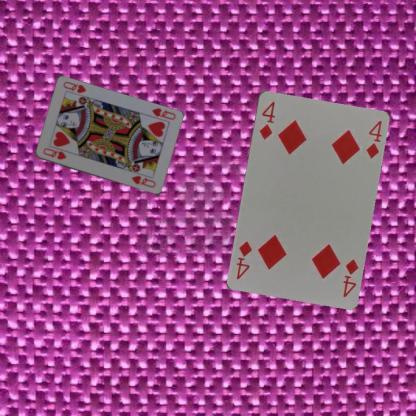4d: (256, 98, 276, 140), (340, 256, 360, 298)
Qh: (149, 105, 177, 121), (41, 146, 68, 162)
